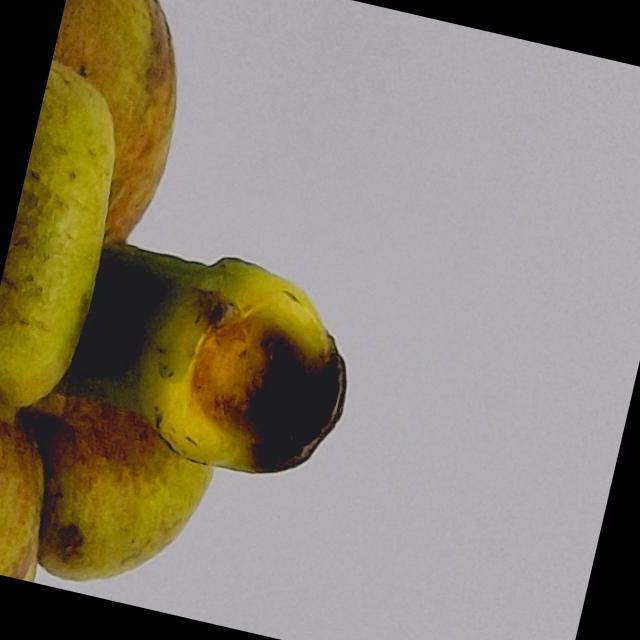mangosteen: (0, 0, 489, 640)
